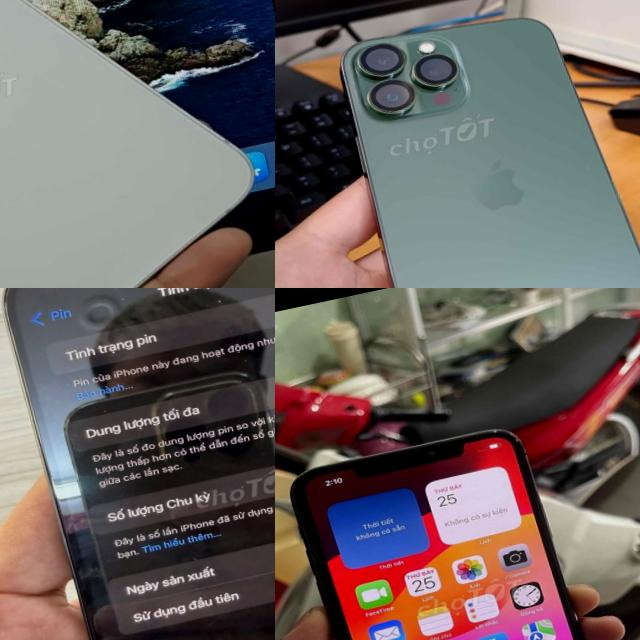gen_11: (292, 430, 585, 640)
gen_12_13: (333, 0, 640, 288)
gen_15: (0, 288, 275, 640)
gen_16: (0, 0, 253, 288)
